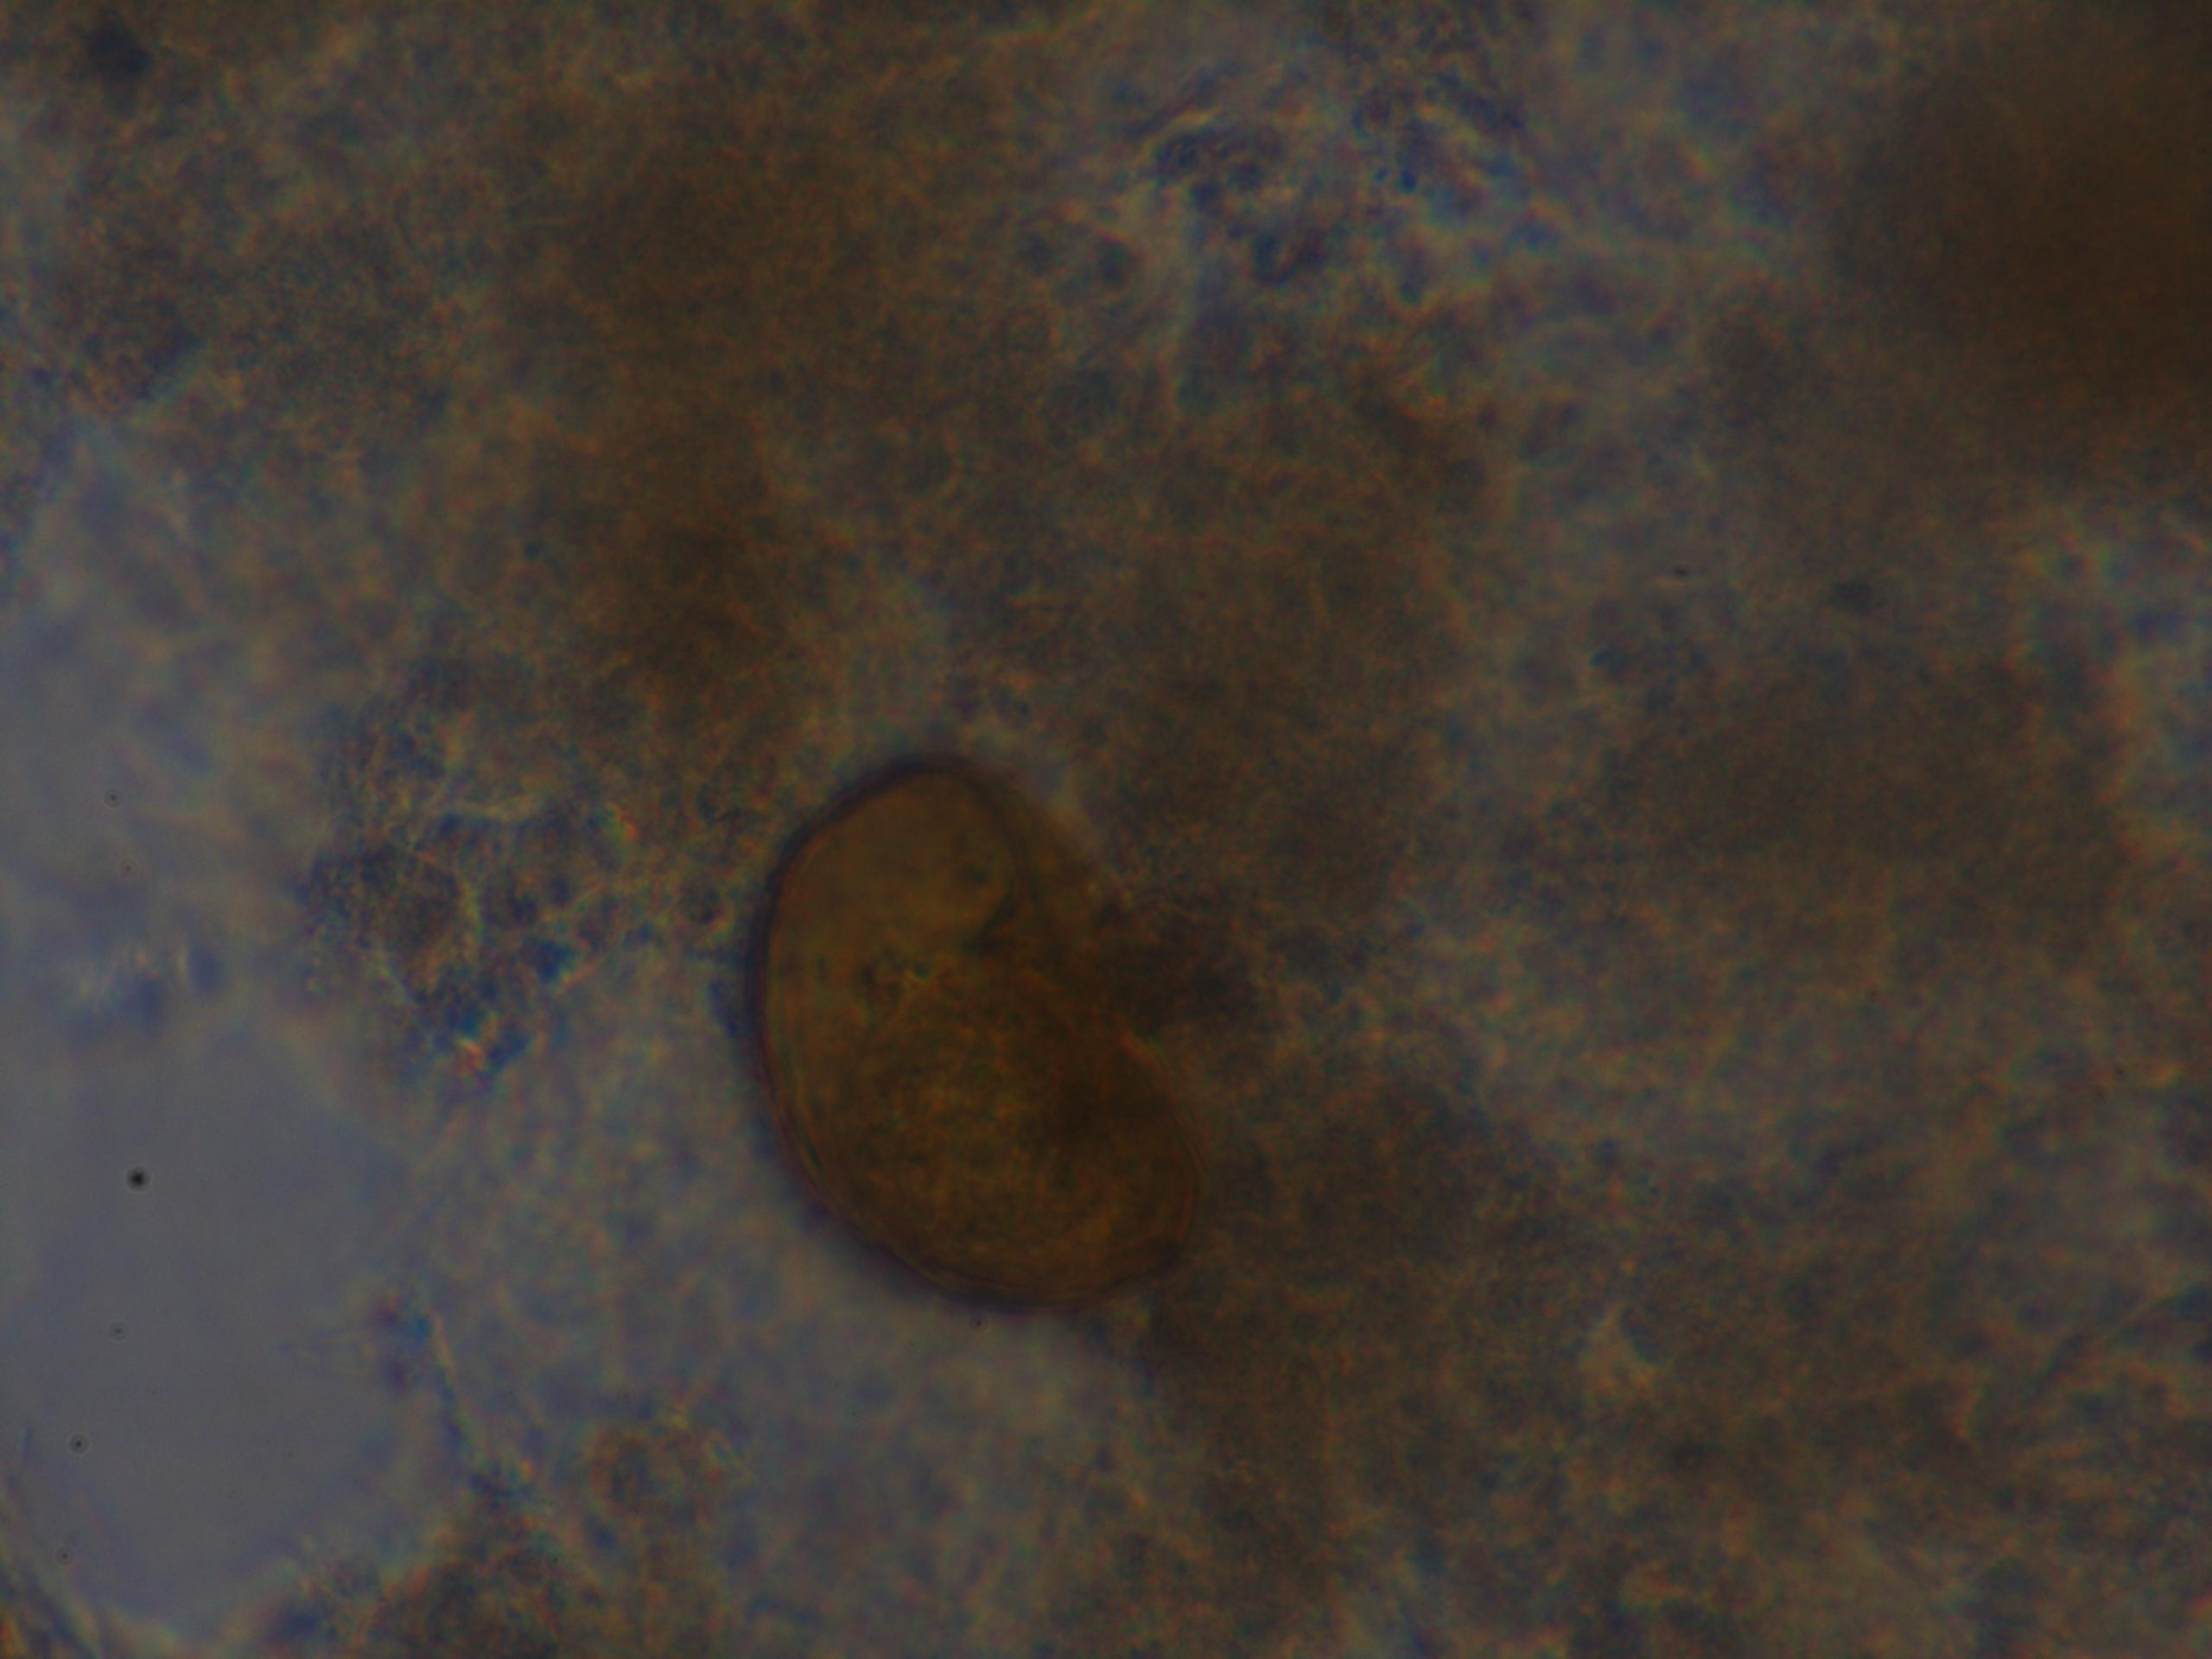protozoa: (705, 737, 1219, 1326)
